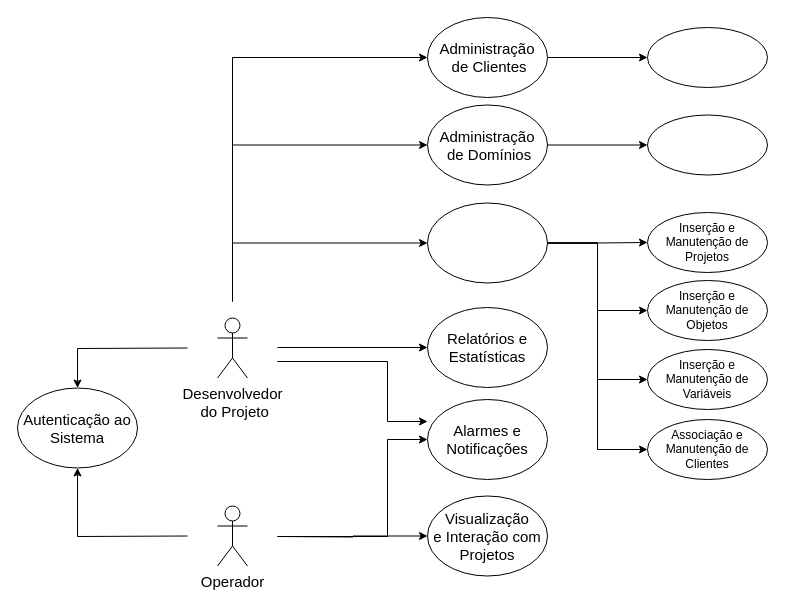
Some shapes in this 785 by 608 pixel diagram are drawn without their labels. Each missing label, with the centre of its shape:
"Administração de Projetos" goes at (487,242).
"Inserção e Gerenciamento de Clientes" goes at (707,57).
"Inserção e Manutenção de Domínios" goes at (707,144).
